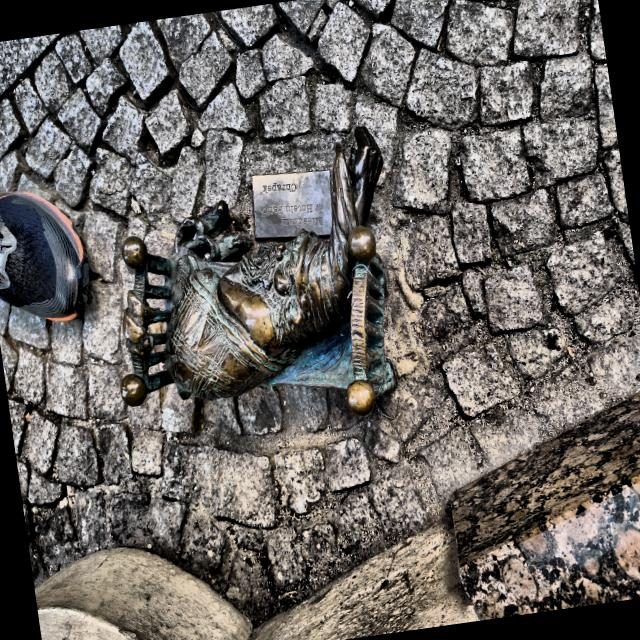Chrapek: (121, 127, 395, 415)
